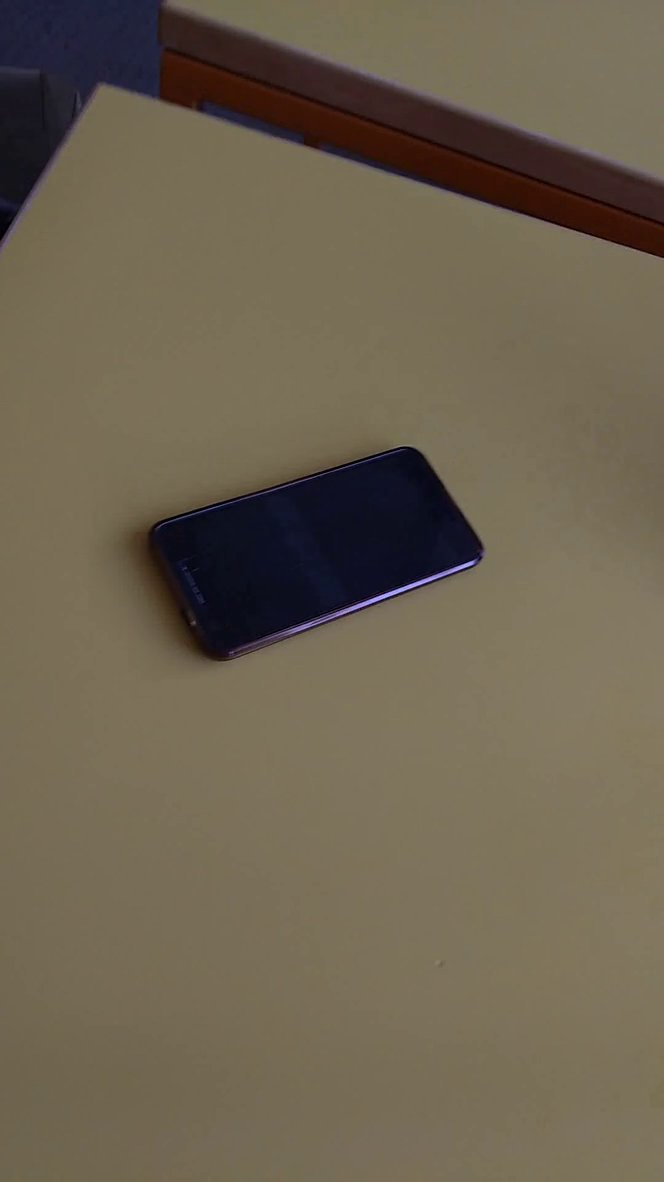phone: (135, 435, 514, 674)
